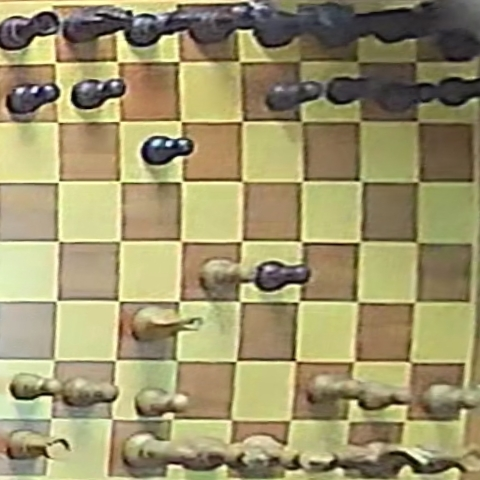black-bishop: (126, 5, 206, 48), (313, 11, 383, 49)
black-king: (251, 0, 355, 47)
black-knight: (63, 5, 133, 45), (374, 2, 437, 46)
black-pawn: (380, 75, 438, 112), (255, 259, 312, 294), (7, 82, 60, 118), (266, 80, 322, 112), (325, 75, 384, 105), (72, 78, 126, 110), (142, 136, 193, 166), (437, 74, 479, 108)
black-queen: (189, 2, 275, 46)
black-rook: (0, 11, 60, 51)
white-bishop: (123, 431, 202, 473), (324, 442, 382, 475)
white-king: (238, 432, 337, 479)
white-knight: (359, 439, 438, 479), (131, 306, 203, 341)
white-pawn: (198, 258, 259, 296), (418, 383, 479, 417), (61, 376, 120, 407), (308, 373, 365, 404), (358, 382, 414, 410), (135, 387, 189, 416), (10, 372, 62, 401)
white-queen: (180, 434, 253, 478)
white-rook: (415, 443, 480, 475), (4, 430, 70, 460)
